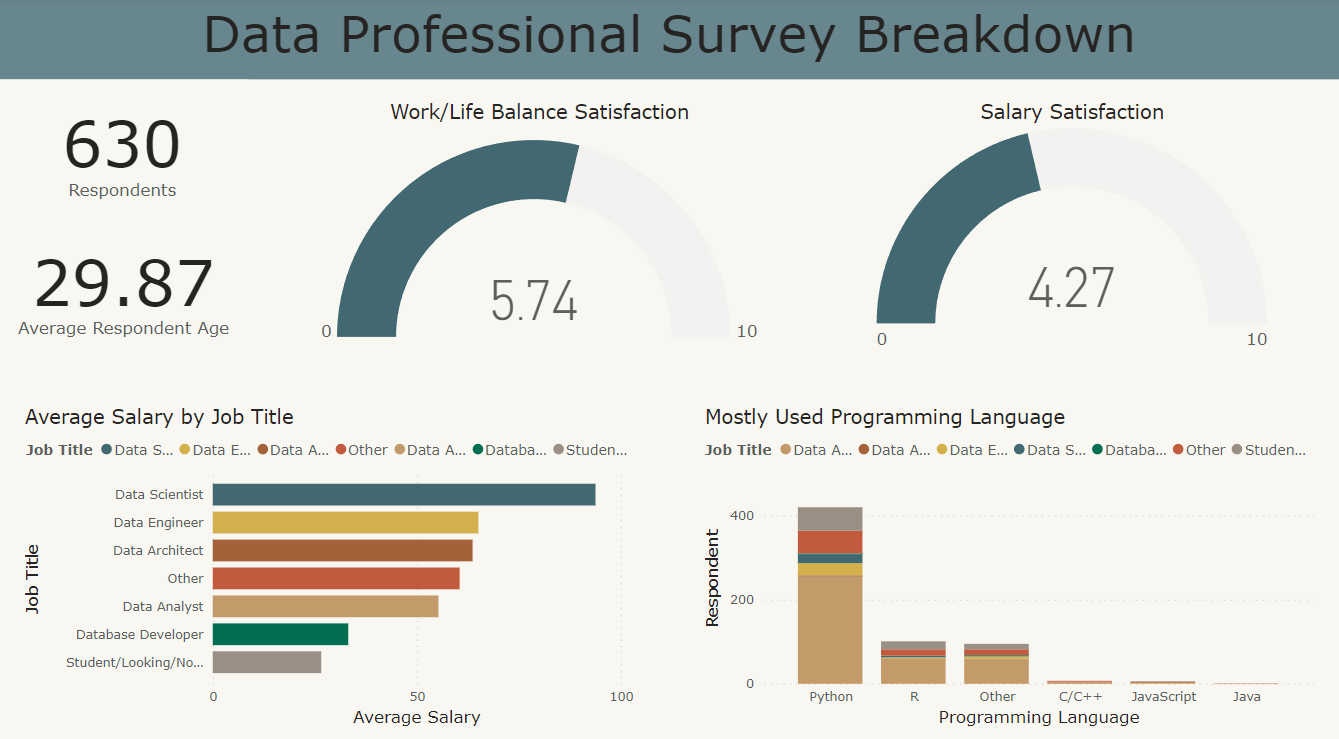

The dashboard page shown, as its layout file describes it:
{"tool":"powerbi","page":{"name":"Survey ","canvas":[1280,720],"ordinal":0},"visuals":[{"type":"textbox","box":[0,0,1280.3,78.2],"z":0},{"type":"card","fields":{"Values":["CountNonNull(Data Professional Survey.Unique ID)"]},"box":[0,78.4,238.9,134.4],"z":1000},{"type":"card","fields":{"Values":["Avg(Data Professional Survey.Q10 - Current Age)"]},"box":[0,210.3,241.4,134.4],"z":2000},{"type":"barChart","title":"Average Salary by Job Title ","fields":{"Category":["Data Professional Survey.Q1 - Which Title Best Fits your Current Role?.1"],"Y":["Avg(Data Professional Survey.Average Salary)"],"Series":["Data Professional Survey.Q1 - Which Title Best Fits your Current Role?.1"]},"box":[21.2,388.2,589.7,311],"z":3000},{"type":"columnChart","title":"Mostly Used Programming Language","fields":{"Category":["Data Professional Survey.Q5 - Favorite Programming Language.1"],"Y":["Count(Data Professional Survey.Unique ID)"],"Series":["Data Professional Survey.Q1 - Which Title Best Fits your Current Role?.1"]},"box":[669.4,388.2,589.7,311],"z":4000},{"type":"gauge","title":"Work/Life Balance Satisfaction","fields":{"Y":["Avg(Data Professional Survey.Q6 - How Happy are you in your Current Position with the following? (Work/Life Balance))"],"MinValue":["Min(Data Professional Survey.Q6 - How Happy are you in your Current Position with the following? (Work/Life Balance))1"],"MaxValue":["Max(Data Professional Survey.Q6 - How Happy are you in your Current Position with the following? (Work/Life Balance))2"]},"box":[298.6,97,435.5,247.6],"z":5001},{"type":"gauge","title":"Salary Satisfaction","fields":{"Y":["Avg(Data Professional Survey.Q6 - How Happy are you in your Current Position with the following? (Salary))"],"MinValue":["Min(Data Professional Survey.Q6 - How Happy are you in your Current Position with the following? (Salary))1"],"MaxValue":["Max(Data Professional Survey.Q6 - How Happy are you in your Current Position with the following? (Salary))2"]},"box":[813.7,97,419.3,247.6],"z":5002}]}

Visuals, with their boxes in screenshot pixels (x1, y1, x2, y2), scaled from the page's 1280x720 canvas onto the 1339x739 screenshot:
textbox: [0, 0, 1338, 80]
card - CountNonNull(Data Professional Survey.Unique ID): [0, 80, 250, 218]
card - Avg(Data Professional Survey.Q10 - Current Age): [0, 216, 253, 354]
"Average Salary by Job Title " barChart: [22, 398, 639, 718]
"Mostly Used Programming Language" columnChart: [700, 398, 1317, 718]
"Work/Life Balance Satisfaction" gauge: [312, 100, 768, 354]
"Salary Satisfaction" gauge: [851, 100, 1290, 354]
